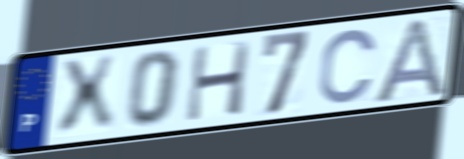0: (125, 48, 182, 130)
7: (260, 28, 312, 118)
A: (369, 14, 448, 106)
C: (316, 26, 380, 107)
H: (183, 38, 254, 125)
X: (56, 52, 120, 142)
